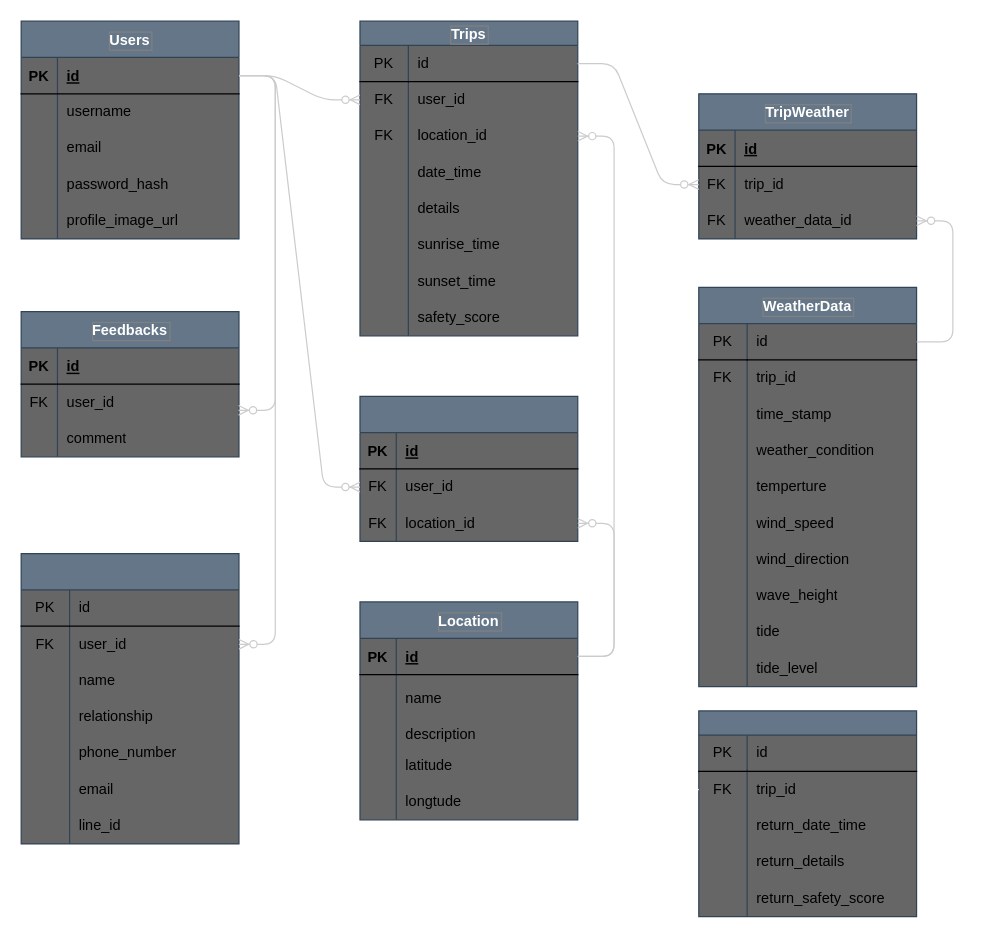
This 984x947 diagram has some shape labels left out. Here are the shapes that lost their labels. From the top down, the box of each, then its label:
(359, 395, 578, 541): favorites
(20, 552, 239, 844): EmergencyContacts
(698, 710, 917, 917): RetrunTrips
